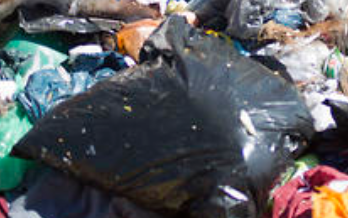garbage: (1, 5, 348, 216)
